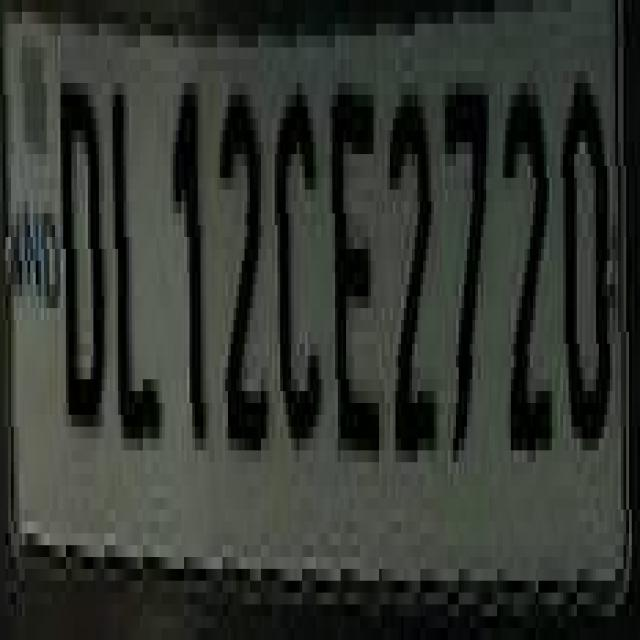plate: (6, 0, 604, 628)
